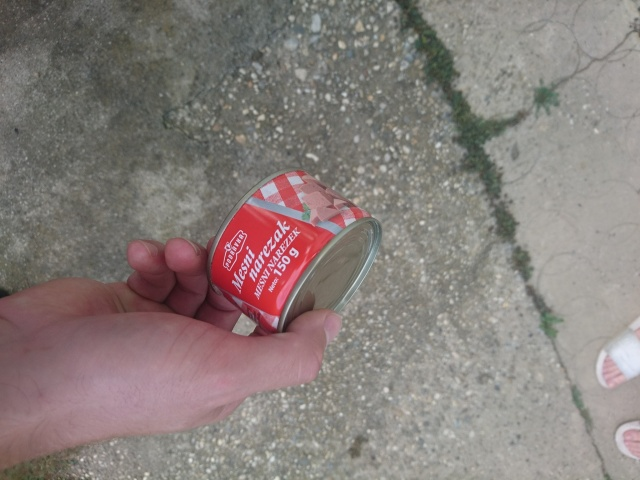Podravka Luncheon Meat 150g: (203, 163, 385, 345)
